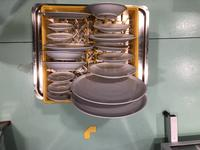Dish: (71, 73, 148, 105), (71, 92, 147, 119), (89, 62, 137, 79), (85, 3, 127, 20), (42, 61, 85, 73), (42, 43, 93, 52), (43, 51, 87, 60), (87, 33, 136, 41), (39, 12, 92, 19), (97, 53, 134, 63), (93, 43, 130, 51), (94, 24, 131, 32), (47, 82, 73, 93), (47, 71, 75, 81), (46, 90, 71, 101), (46, 32, 74, 40), (45, 23, 73, 30)
